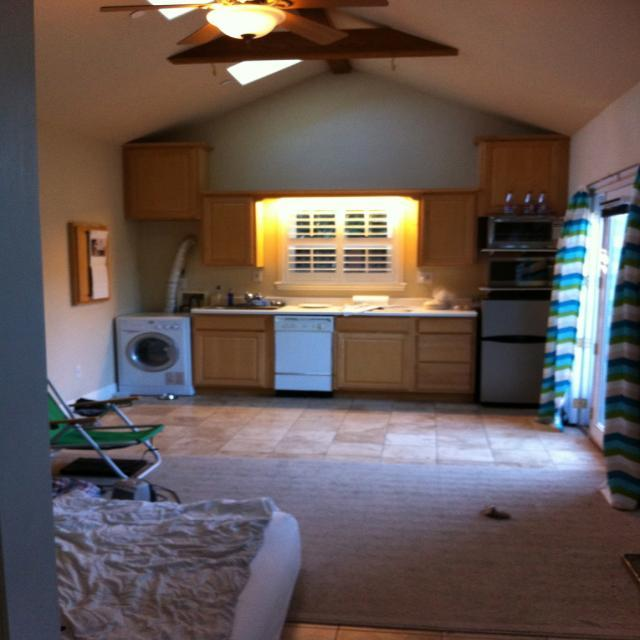fan_off: (94, 0, 389, 49)
